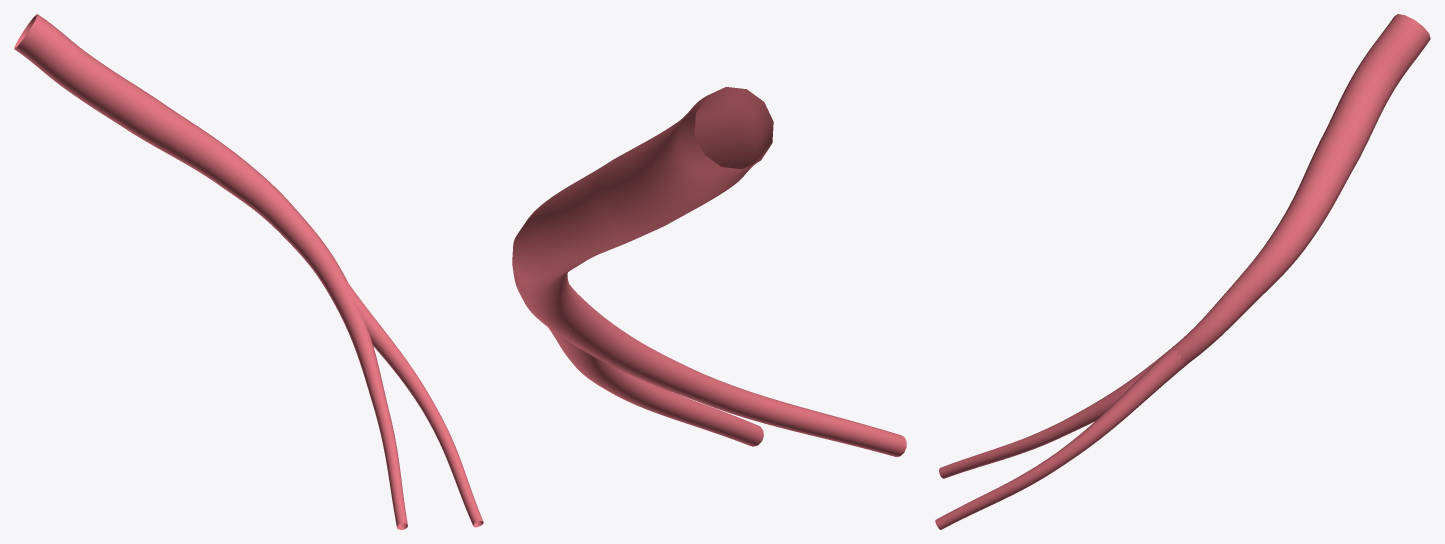
3 renders of one model, left to right at view 1: azimuth 30°, elevation 25°; view 2: azimuth 150°, elevation 25°; view 3: azimuth 270°, elevation 25°, orthographic. The views are drawn at different scales.
Parts seen in each view (by area): view 1: ZA_3712a42012b58196; view 2: ZA_3712a42012b58196; view 3: ZA_3712a42012b58196.
Boxes of the visible parts, <box> form: ZA_3712a42012b58196: <box>14,14,483,529</box>; ZA_3712a42012b58196: <box>512,87,906,456</box>; ZA_3712a42012b58196: <box>935,14,1430,529</box>.
Bounding box in the file's own units: 0.0413 × 0.0622 × 0.0686.
